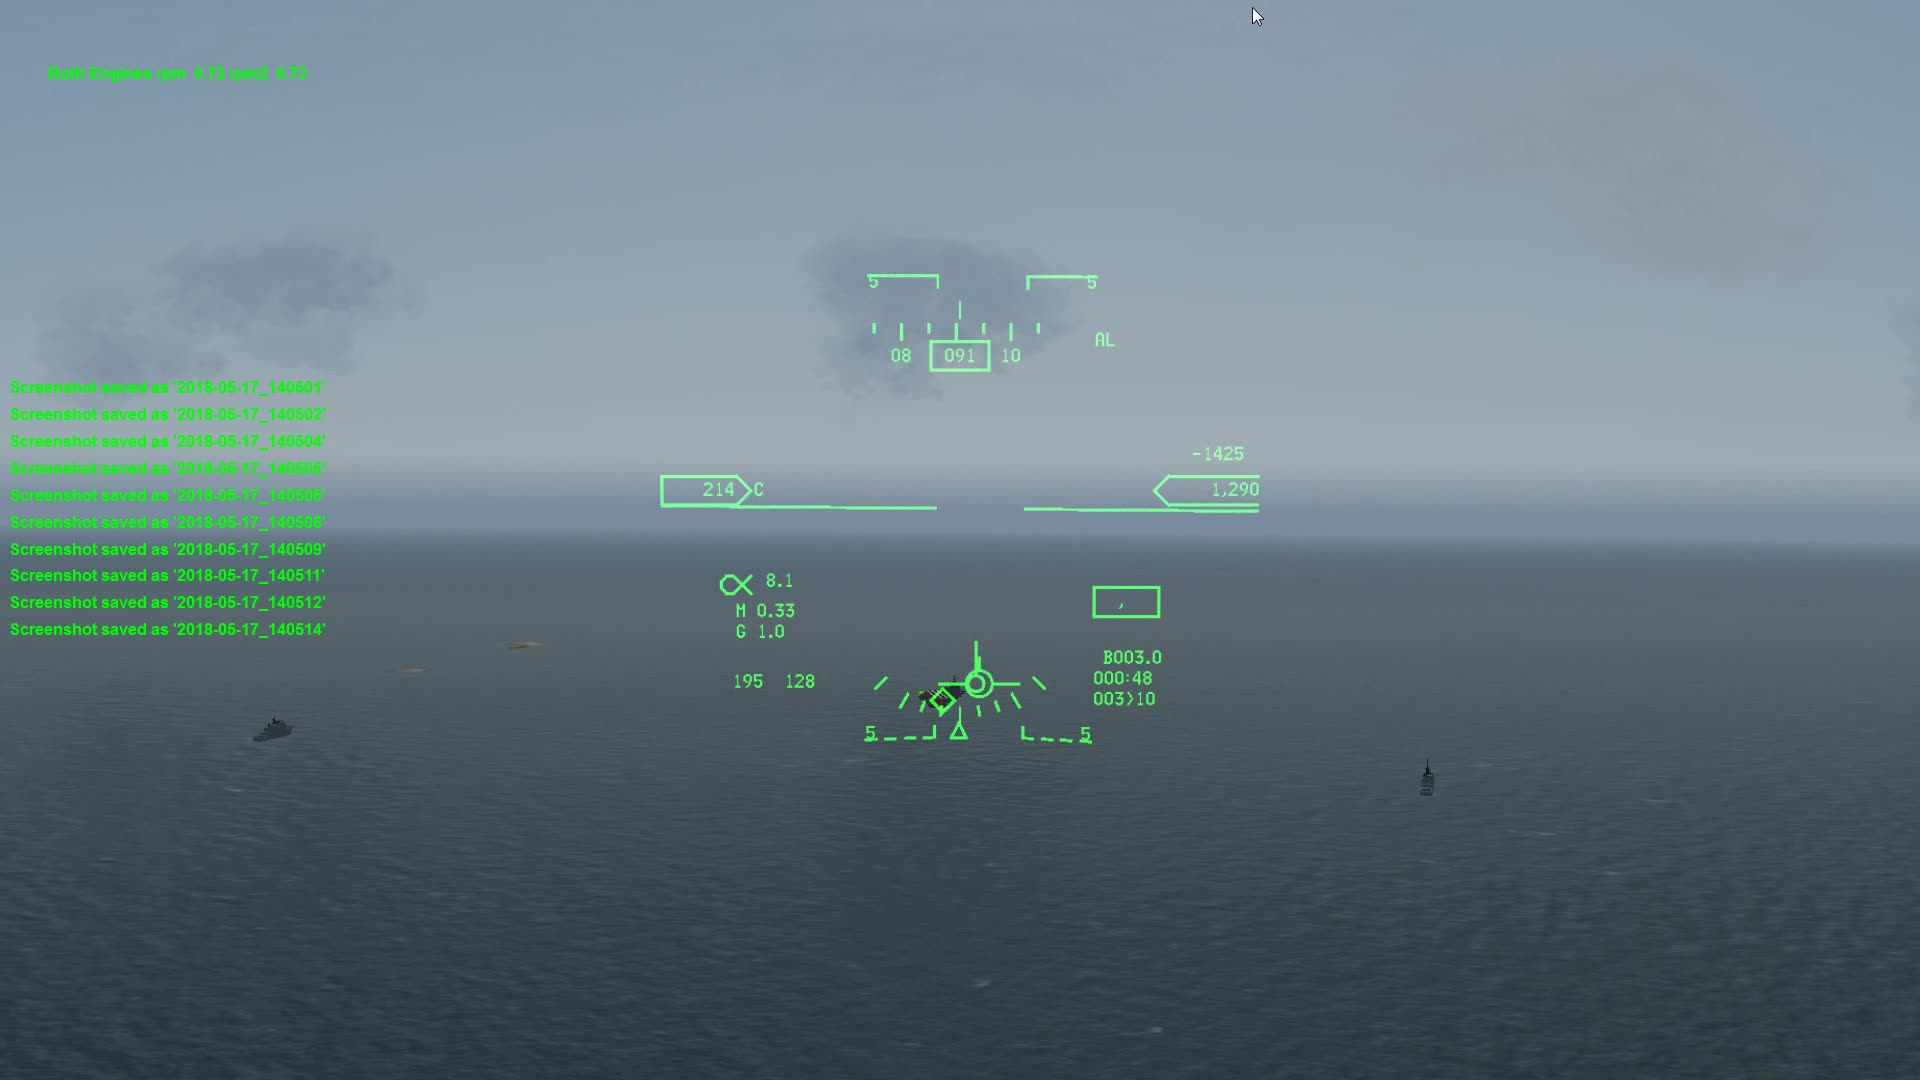speed vector: (934, 645, 1018, 704)
